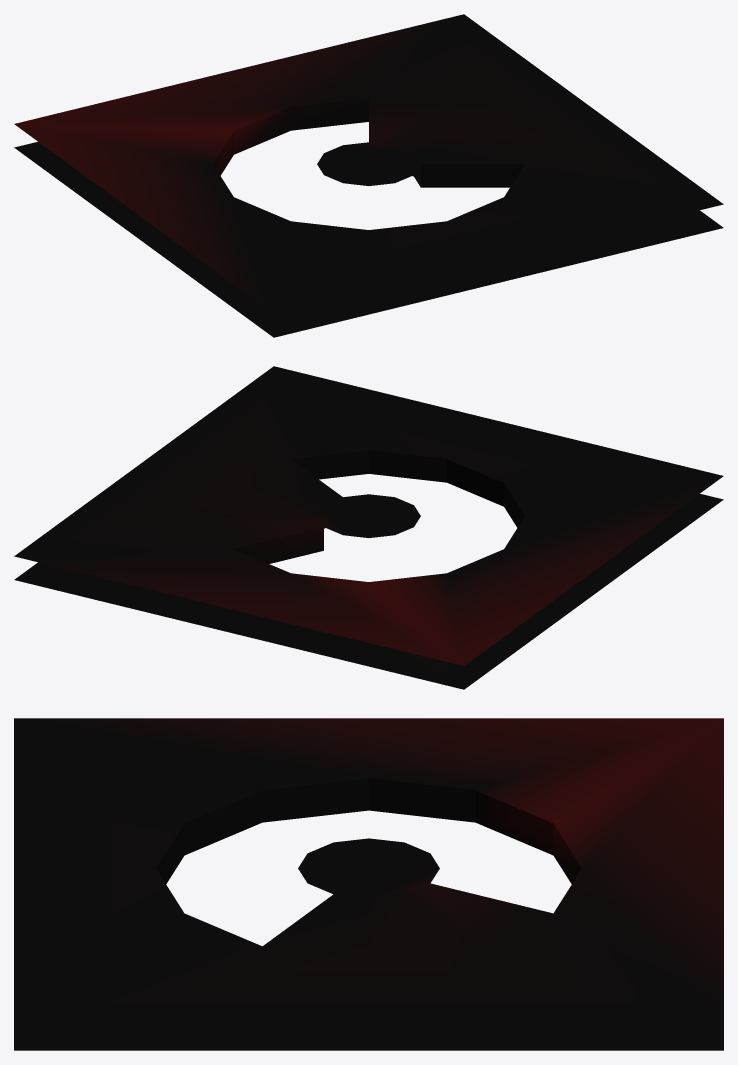
File: TowerFloor_1_export.obj
3 views of the same model, one above another, from view 1: azimuth 30°, elevation 25°; view 2: azimuth 150°, elevation 25°; view 3: azimuth 270°, elevation 25° (orthographic). The views are drawn at different scales.
Visible parts, largest first — view 1: TowerFloor_1; view 2: TowerFloor_1; view 3: TowerFloor_1.
Boxes of the visible parts, left/top/right/bottom form: TowerFloor_1: left=14, top=14, right=723, bottom=337; TowerFloor_1: left=14, top=366, right=723, bottom=689; TowerFloor_1: left=14, top=718, right=723, bottom=1050.
Bounding box in the file's own units: 5 × 0.25 × 5.
